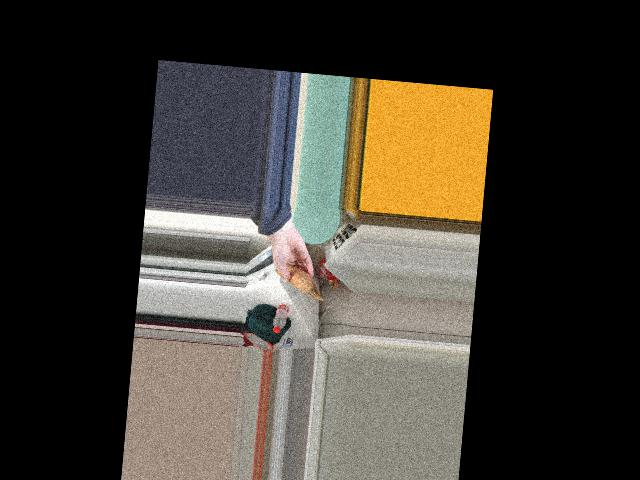sweet_potato: (278, 259, 313, 293)
